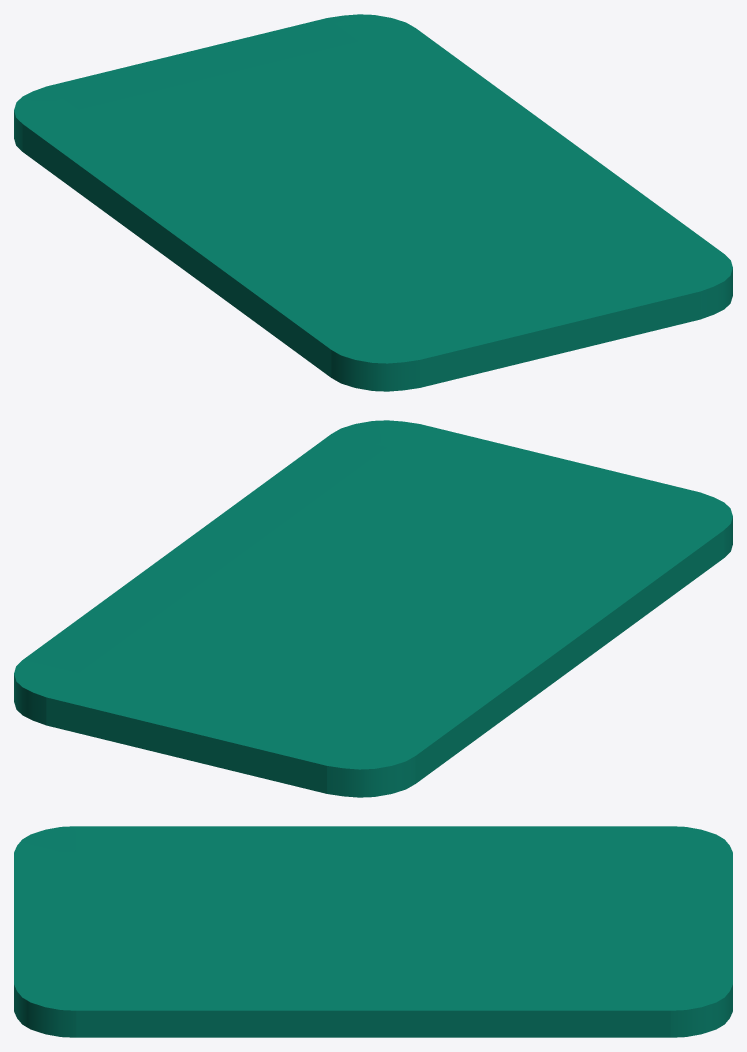
3 views of the same model, one above another, from view 1: azimuth 30°, elevation 25°; view 2: azimuth 150°, elevation 25°; view 3: azimuth 270°, elevation 25° (orthographic). The views are drawn at different scales.
Parts seen in each view (by area): view 1: ChamferBox002; view 2: ChamferBox002; view 3: ChamferBox002.
Boxes of the visible parts, box(x1,y1,x2,y2) form: ChamferBox002: box(14, 14, 732, 391); ChamferBox002: box(14, 420, 732, 797); ChamferBox002: box(14, 826, 732, 1037).
Size of the model in its own units: 1223 by 83.94 by 2013.
